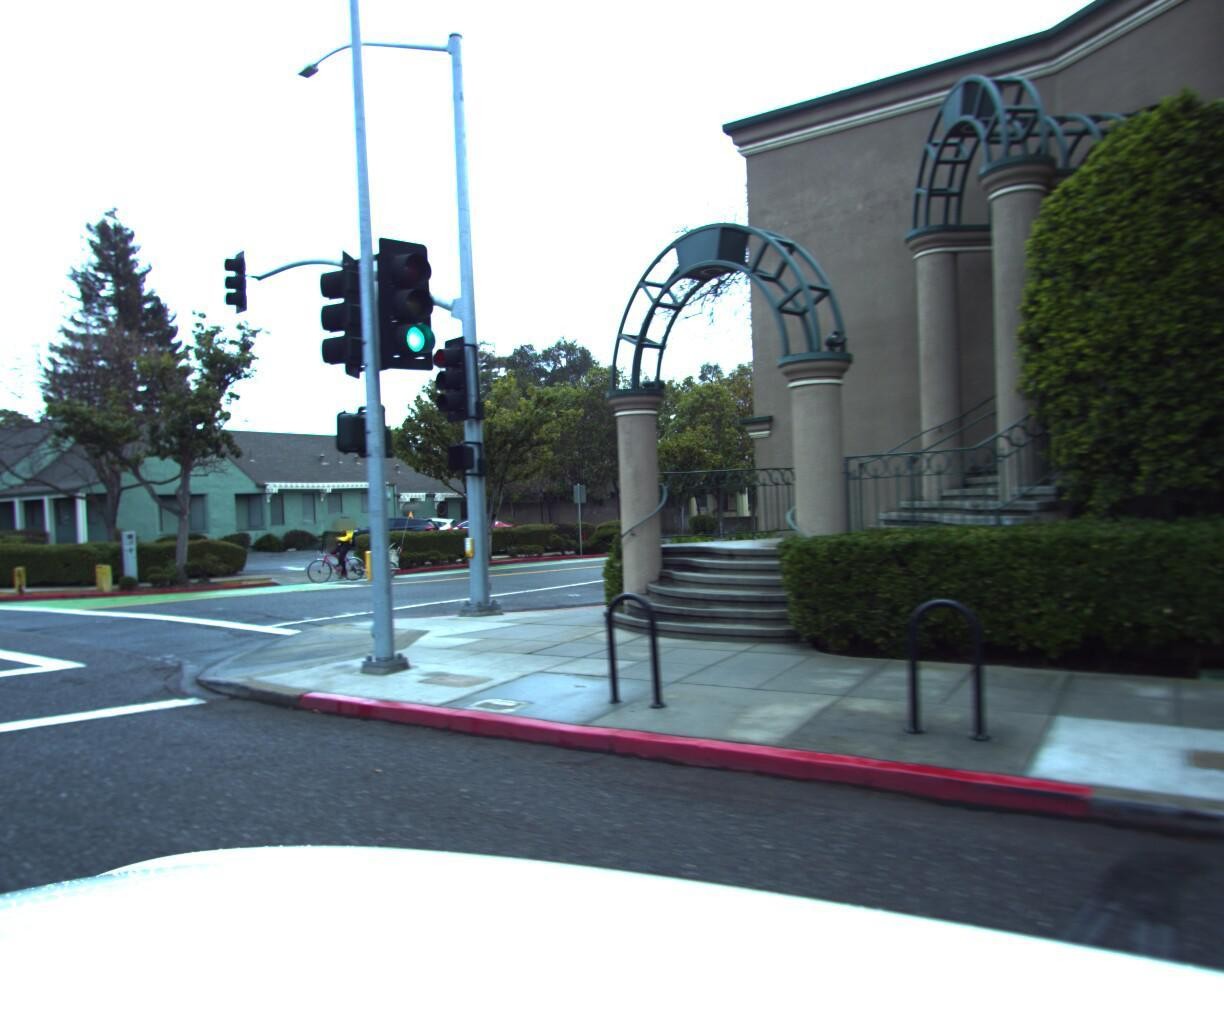bicycle: (292, 505, 427, 583)
car: (339, 508, 444, 548)
